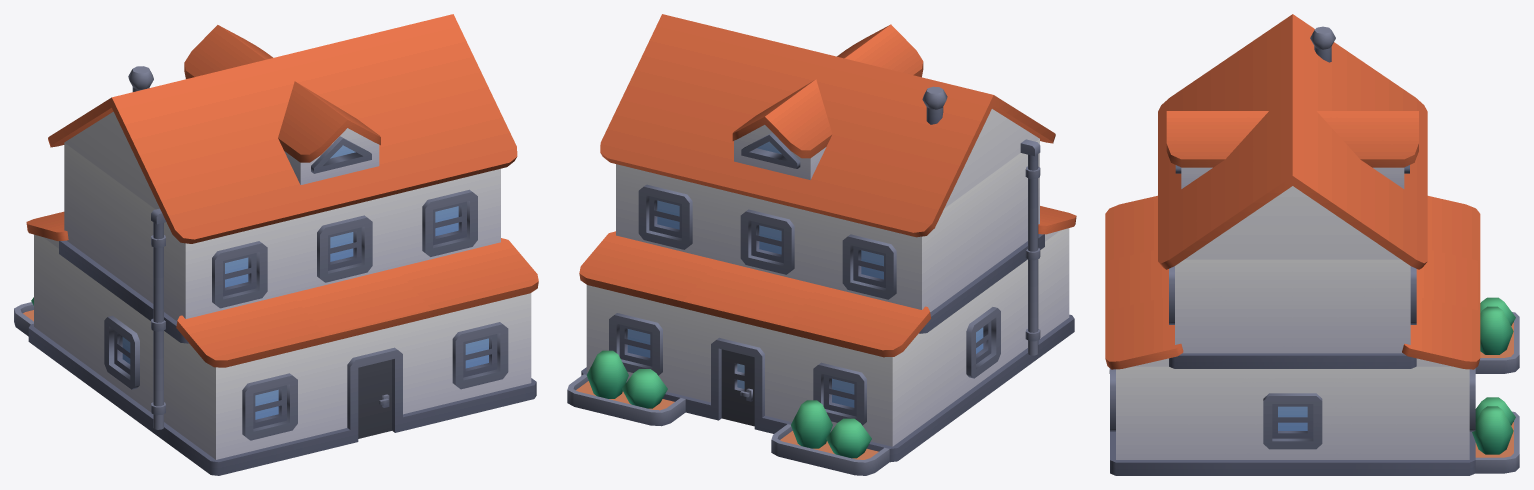
File: house_suburb_t_warm.glb
3 renders of one model, left to right at view 1: azimuth 30°, elevation 25°; view 2: azimuth 150°, elevation 25°; view 3: azimuth 270°, elevation 25°, orthographic. The views are drawn at different scales.
Parts seen in each view (by area): view 1: building-type-t; view 2: building-type-t; view 3: building-type-t.
Boxes of the visible parts, x1,y1,x2,y2 form: building-type-t: [14, 14, 538, 475]; building-type-t: [567, 14, 1076, 475]; building-type-t: [1105, 14, 1519, 475].
Size of the model in its own units: 1.31 by 1.16 by 1.41.
Materials: 1 (1 with a texture image).
